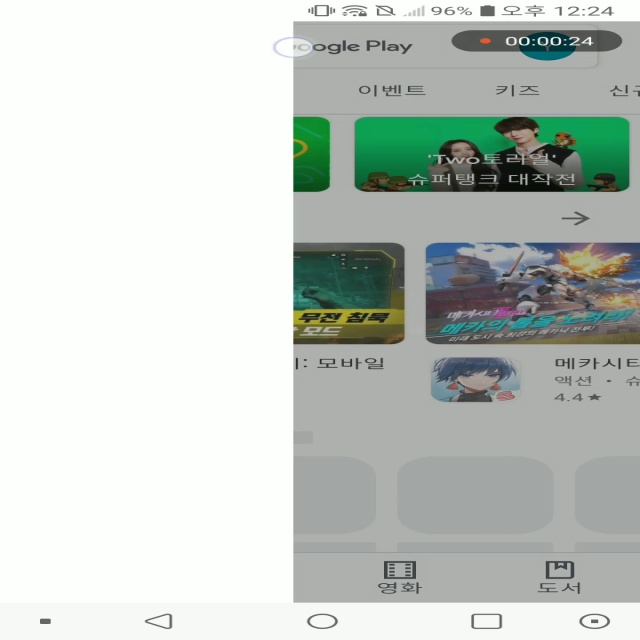Cursor: (272, 37, 317, 60)
